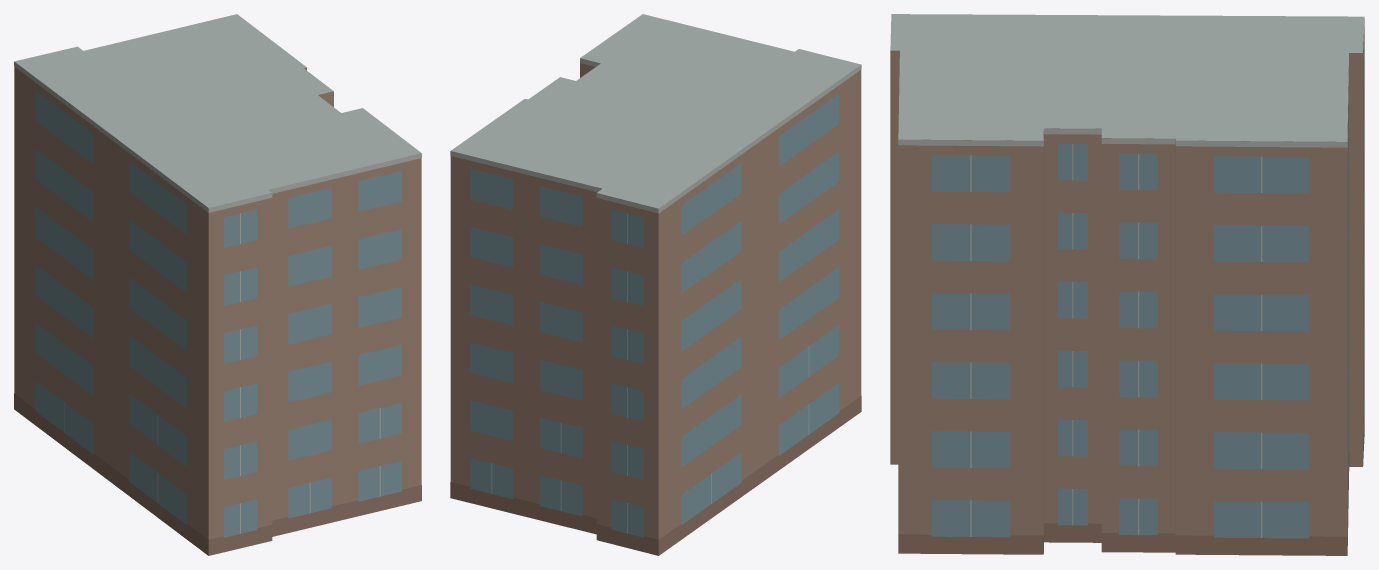
The model's file is survey-upis-32739585.glb.
3 views of the same model, side by side, from view 1: azimuth 30°, elevation 25°; view 2: azimuth 150°, elevation 25°; view 3: azimuth 270°, elevation 25° (orthographic). The views are drawn at different scales.
Visible parts, largest first — view 1: survey-upis-32739585.tmp; view 2: survey-upis-32739585.tmp; view 3: survey-upis-32739585.tmp.
Boxes of the visible parts, x1,y1,x2,y2 form: survey-upis-32739585.tmp: (14, 14, 421, 555); survey-upis-32739585.tmp: (450, 14, 861, 555); survey-upis-32739585.tmp: (890, 14, 1364, 555).
Bounding box in the file's own units: 11.53 × 17.4 × 18.08.
